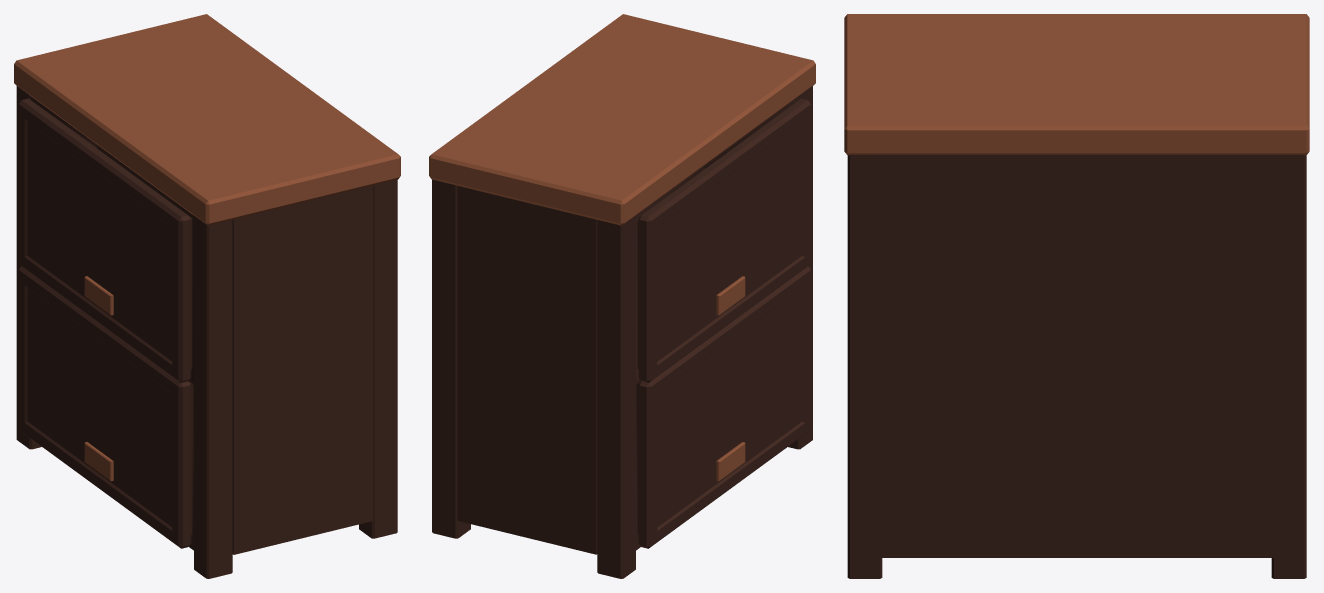
Rendered from BedsideTable.fbx.
The picture shows the model from 3 angles, left to right: view 1: azimuth 30°, elevation 25°; view 2: azimuth 150°, elevation 25°; view 3: azimuth 270°, elevation 25°; orthographic projection. The views are drawn at different scales.
Parts seen in each view (by area): view 1: Cube.1477, Cube.1476, Cube.1475; view 2: Cube.1477, Cube.1476, Cube.1475; view 3: Cube.1477.
Part boxes in pixels (x1=…): Cube.1477: x1=14, y1=14, x2=400, y2=578; Cube.1476: x1=18, y1=98, x2=192, y2=382; Cube.1475: x1=18, y1=266, x2=192, y2=548; Cube.1477: x1=429, y1=14, x2=815, y2=578; Cube.1476: x1=637, y1=98, x2=811, y2=382; Cube.1475: x1=637, y1=266, x2=811, y2=548; Cube.1477: x1=844, y1=14, x2=1309, y2=578.
Size of the model in its own units: 32.48 by 56.62 by 52.57.
